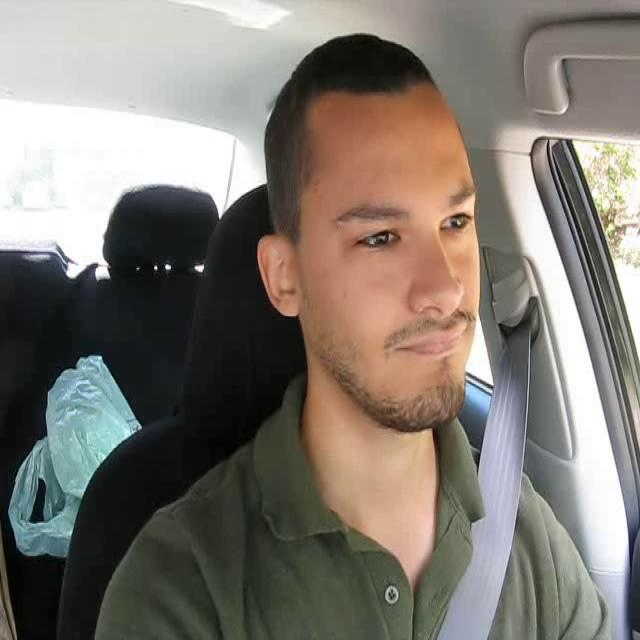close: (389, 320, 477, 362)
